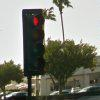Traffic light: (14, 7, 58, 82)
